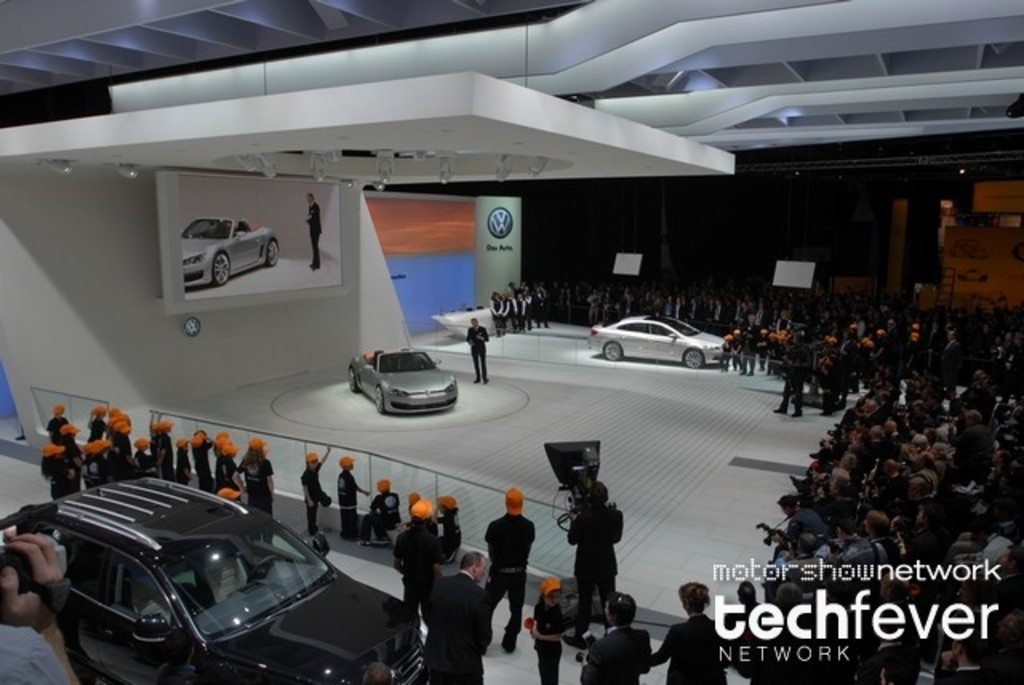Car: (54, 475, 423, 683), (588, 315, 734, 371), (350, 348, 459, 419), (184, 219, 281, 289)
